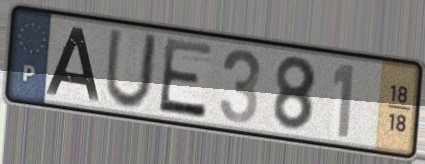1: (331, 61, 357, 141)
3: (218, 46, 263, 125)
8: (270, 54, 319, 133)
A: (43, 24, 103, 104)
E: (155, 35, 215, 122)
U: (101, 27, 160, 112)
